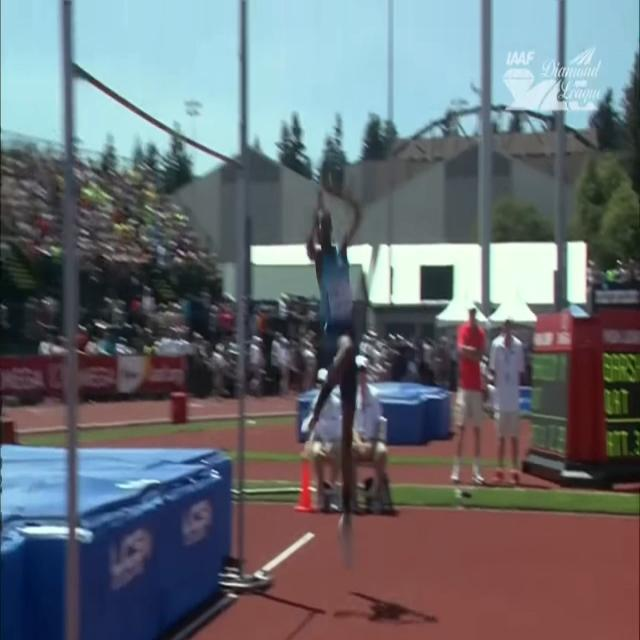jump: (303, 185, 357, 570)
